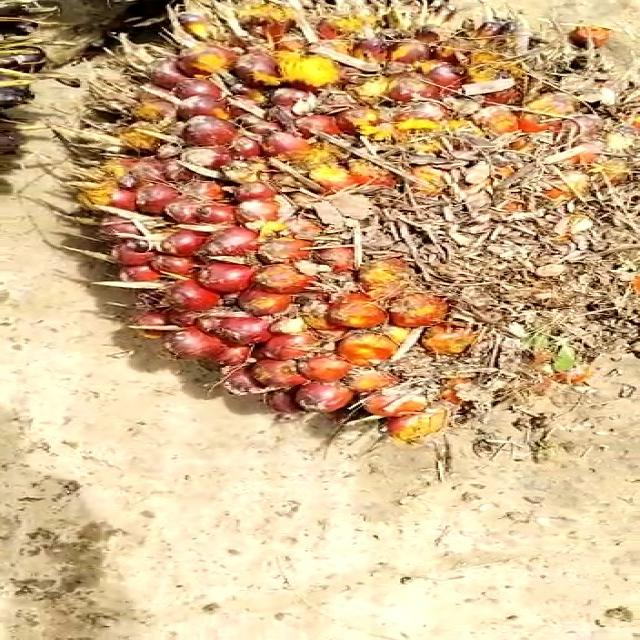palm oil: (62, 0, 638, 436)
